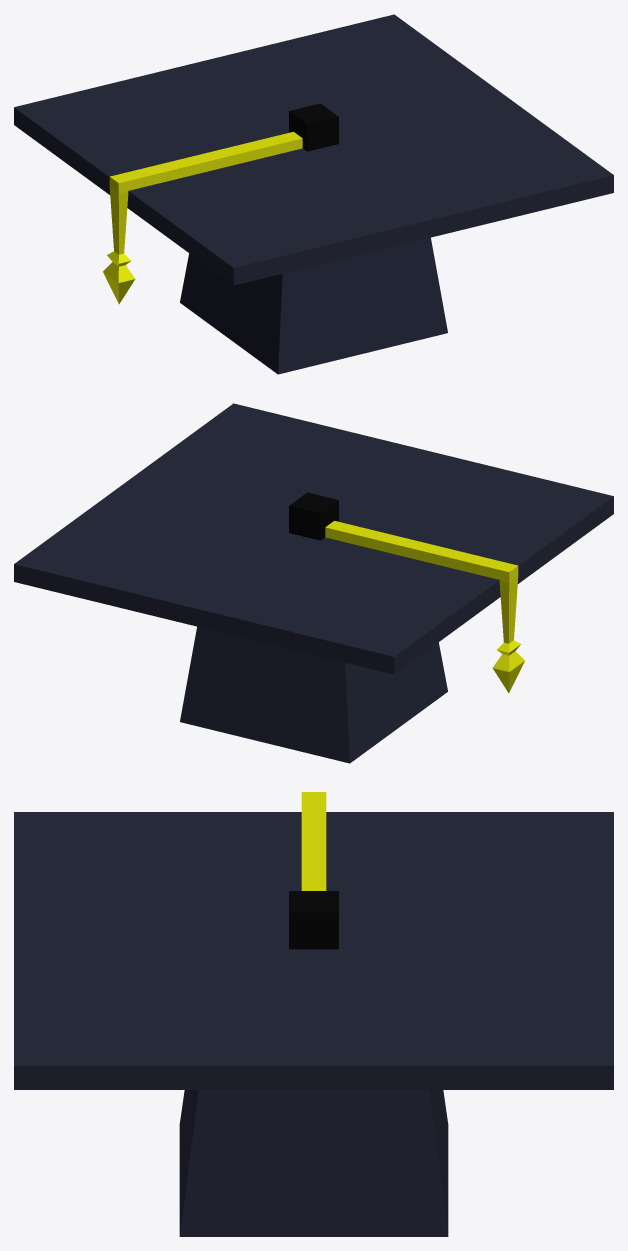
The model's file is pupilhat.fbx.
The picture shows the model from 3 angles, top to bottom: view 1: azimuth 30°, elevation 25°; view 2: azimuth 150°, elevation 25°; view 3: azimuth 270°, elevation 25°; orthographic projection. The views are drawn at different scales.
Visible parts, largest first — view 1: Cube.017; view 2: Cube.017; view 3: Cube.017.
Part boxes in pixels (x1,y1,x2,y2): Cube.017: (14,14,613,374); Cube.017: (14,403,613,763); Cube.017: (14,792,613,1236).
Bounding box in the file's own units: 215 × 106 × 207.
